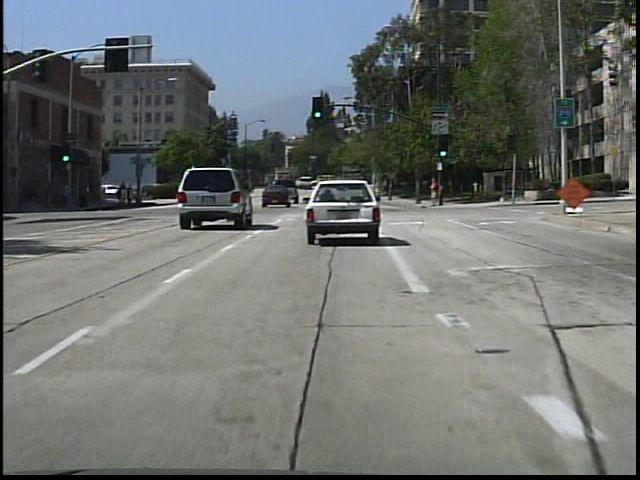person: (424, 174, 440, 209), (116, 178, 129, 206), (130, 182, 131, 209)
